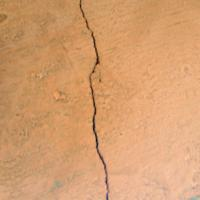crack: (68, 0, 133, 199)
